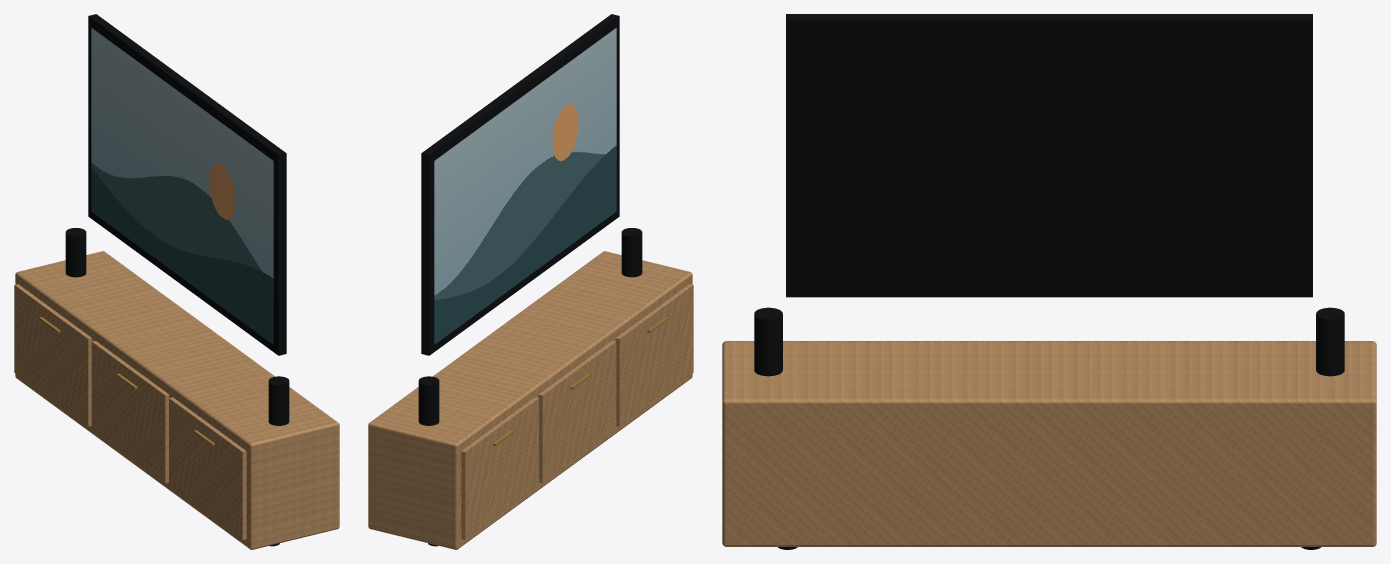
The model's file is oak_media_console.dae.
3 views of the same model, side by side, from view 1: azimuth 30°, elevation 25°; view 2: azimuth 150°, elevation 25°; view 3: azimuth 270°, elevation 25° (orthographic). The views are drawn at different scales.
Parts seen in each view (by area): view 1: oak, art, charcoal; view 2: oak, art, charcoal; view 3: charcoal, oak.
Boxes of the visible parts, x1,y1,x2,y2 form: oak: [14, 251, 339, 549]; art: [91, 27, 273, 344]; charcoal: [65, 14, 289, 546]; oak: [368, 251, 693, 549]; art: [434, 27, 616, 344]; charcoal: [418, 14, 642, 546]; charcoal: [754, 14, 1344, 549]; oak: [722, 341, 1376, 546].
Size of the model in its own units: 0.484 by 2.05 by 1.85.
Materials: 4 (2 with a texture image).
